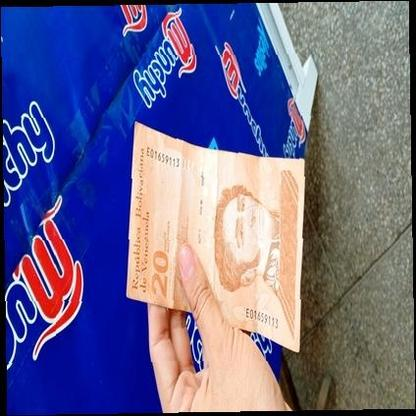twenty-front-vef: (126, 121, 305, 353)
